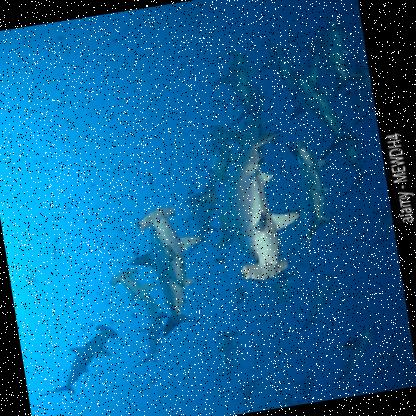hammerhead_Shark: (204, 112, 316, 290), (123, 182, 222, 349), (29, 315, 129, 401)
